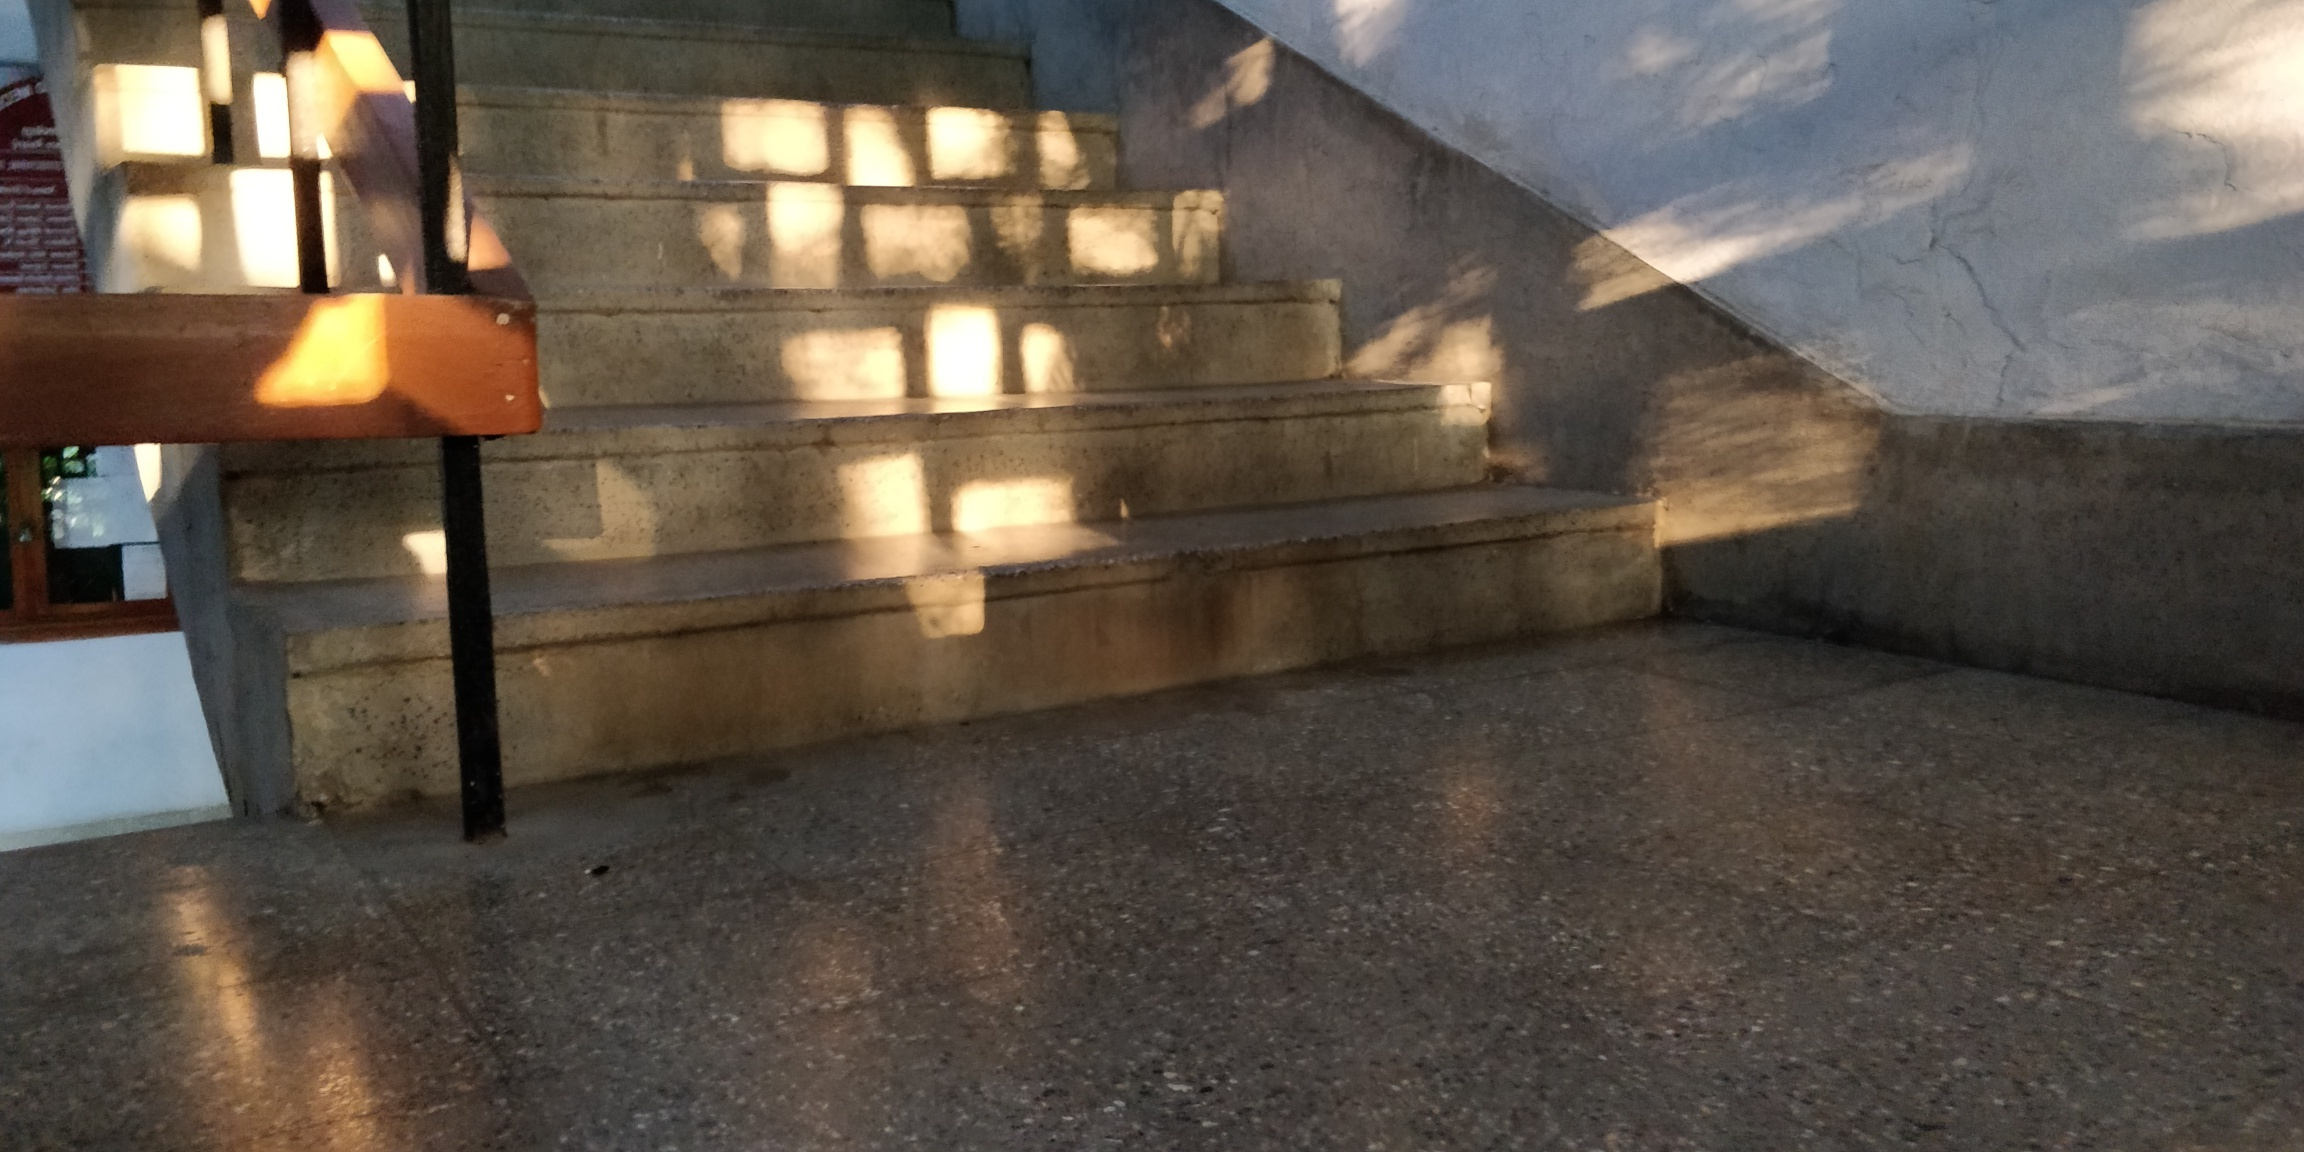stairs_up: (126, 3, 1756, 713)
